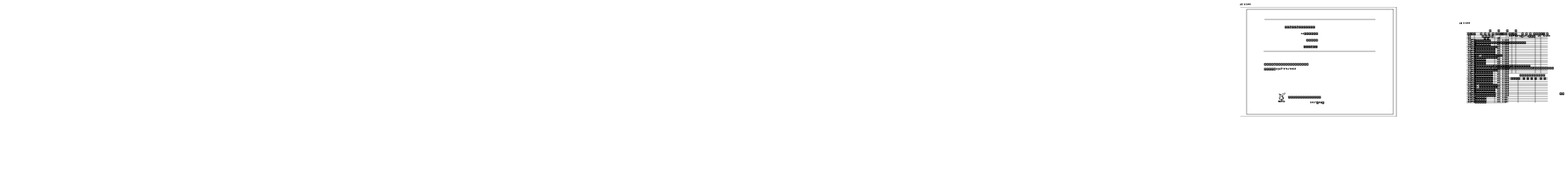room: (199, 31, 229, 42)
staircase: (1406, 143, 1417, 146)
wall: (204, 27, 214, 29), (215, 27, 224, 29), (194, 27, 203, 29), (207, 30, 215, 32), (198, 39, 206, 41), (225, 27, 229, 29), (213, 36, 218, 37), (217, 32, 221, 33), (217, 34, 220, 35)
